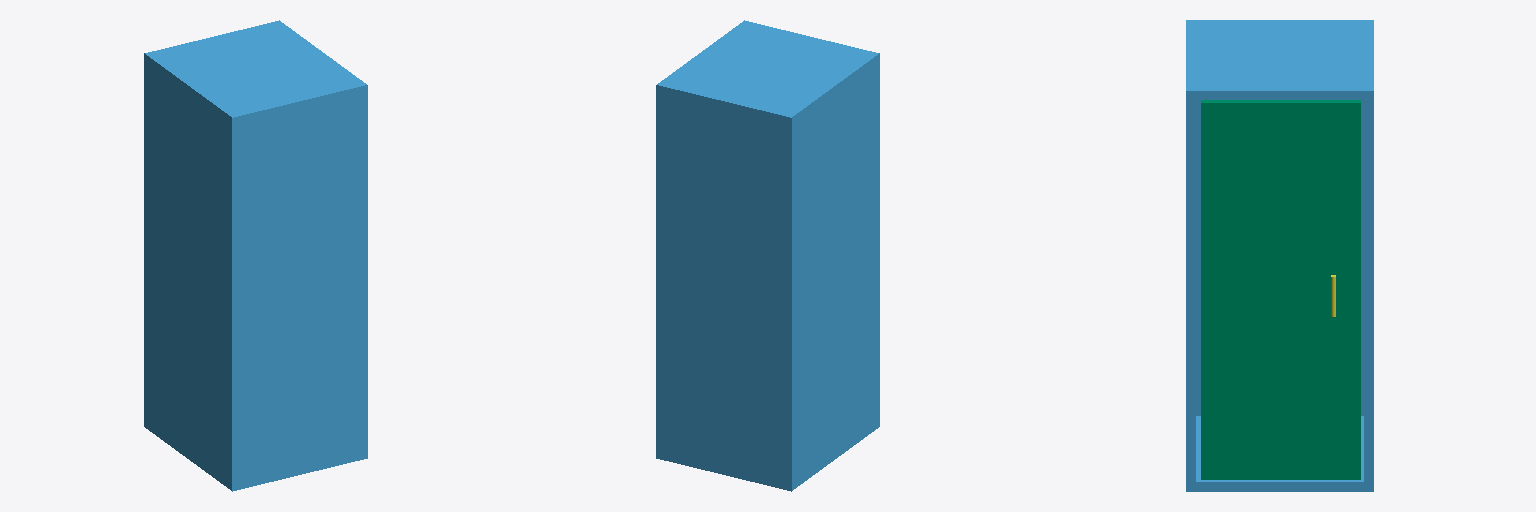
The robot description file, URDF, robot "my_cabinet":
<?xml version="1.0" ?>
<robot name="my_cabinet">
	<link name="world"/>
	<joint name="virtual_joint" type="fixed">
		<parent link="world"/>
		<child link="base_cabinet_link"/>
		<origin xyz="0.0 0.0 0.0" rpy="0.0 0.0 0.0"/>
	</joint>
	<link name="base_cabinet_link">
		<visual>
			<origin xyz="0.0 -0.0025 -0.38753297592456826" rpy="0.0 0.0 0.0"/>
			<geometry>
				<box size="0.3 0.3383322710743411 0.018"/>
			</geometry>
		</visual>
		<collision name="base_cabinet_link_collision_0">
			<origin xyz="0.0 -0.0025 -0.38753297592456826" rpy="0.0 0.0 0.0"/>
			<geometry>
				<box size="0.3 0.3383322710743411 0.018"/>
			</geometry>
		</collision>
		<visual>
			<origin xyz="0.0 0.15766613553717057 0.0" rpy="0.0 0.0 0.0"/>
			<geometry>
				<box size="0.3 0.018 0.7930659518491365"/>
			</geometry>
		</visual>
		<collision name="base_cabinet_link_collision_1">
			<origin xyz="0.0 0.15766613553717057 0.0" rpy="0.0 0.0 0.0"/>
			<geometry>
				<box size="0.3 0.018 0.7930659518491365"/>
			</geometry>
		</collision>
		<visual>
			<origin xyz="0.0 -0.16266613553717058 0.0" rpy="0.0 0.0 0.0"/>
			<geometry>
				<box size="0.3 0.018 0.7930659518491365"/>
			</geometry>
		</visual>
		<collision name="base_cabinet_link_collision_2">
			<origin xyz="0.0 -0.16266613553717058 0.0" rpy="0.0 0.0 0.0"/>
			<geometry>
				<box size="0.3 0.018 0.7930659518491365"/>
			</geometry>
		</collision>
		<visual>
			<origin xyz="0.0 -0.0025 0.38753297592456826" rpy="0.0 0.0 0.0"/>
			<geometry>
				<box size="0.3 0.3383322710743411 0.018"/>
			</geometry>
		</visual>
		<collision name="base_cabinet_link_collision_3">
			<origin xyz="0.0 -0.0025 0.38753297592456826" rpy="0.0 0.0 0.0"/>
			<geometry>
				<box size="0.3 0.3383322710743411 0.018"/>
			</geometry>
		</collision>
		<visual>
			<origin xyz="-0.141 -0.0025 0.0" rpy="0.0 0.0 0.0"/>
			<geometry>
				<box size="0.018 0.3383322710743411 0.7930659518491365"/>
			</geometry>
		</visual>
		<collision name="base_cabinet_link_collision_4">
			<origin xyz="-0.141 -0.0025 0.0" rpy="0.0 0.0 0.0"/>
			<geometry>
				<box size="0.018 0.3383322710743411 0.7930659518491365"/>
			</geometry>
		</collision>
		<inertial>
			<mass value="0.200000"/>
			<inertia ixx="0.012390" ixy="0.0" ixz="0.0" iyy="0.011983" iyz="0.0" izz="0.003408"/>
		</inertial>
	</link>
	<link name="door_link">
		<visual>
			<origin xyz="0.0 -0.14366613553717056 0.0"/>
			<geometry>
				<box size="0.018 0.2873322710743411 0.7470659518491365"/>
			</geometry>
		</visual>
		<collision name="door_link_collision">
			<origin xyz="0.0 -0.14366613553717056 0.0"/>
			<geometry>
				<box size="0.018 0.2873322710743411 0.7470659518491365"/>
			</geometry>
		</collision>
		<inertial>
			<mass value="0.200000"/>
			<inertia ixx="0.010678" ixy="0.0" ixz="0.0" iyy="0.009307" iyz="0.0" izz="0.001381"/>
		</inertial>
	</link>
	<joint name="door_joint" type="revolute">
		<origin xyz="0.141 -0.14366613553717056 0.0" rpy="0.000000 -0.000000 3.141593"/>
		<axis xyz="0 0 1"/>
		<parent link="base_cabinet_link"/>
		<child link="door_link"/>
		<limit effort="50" lower="-1.658062789394613" upper="0" velocity="10"/>
		<dynamics friction="3.5" damping="3.5"/>
	</joint>
	<link name="handle_link">
		<visual>
			<origin xyz="0.0 0.0 0.0" rpy="0.0 0.0 0.0"/>
			<geometry>
				<cylinder length="0.08" radius="0.005"/>
			</geometry>
		</visual>
		<collision name="handle_link_collision_0">
			<origin xyz="0.0 0.0 0.0" rpy="0.0 0.0 0.0"/>
			<geometry>
				<cylinder length="0.08" radius="0.005"/>
			</geometry>
		</collision>
		<visual>
			<origin xyz="-0.01 0.0 0.02" rpy="0.0 1.5707963267948966 0.0"/>
			<geometry>
				<cylinder length="0.02" radius="0.003"/>
			</geometry>
		</visual>
		<collision name="handle_link_collision_1">
			<origin xyz="-0.01 0.0 0.02" rpy="0.0 1.5707963267948966 0.0"/>
			<geometry>
				<cylinder length="0.01" radius="0.003"/>
			</geometry>
		</collision>
		<visual>
			<origin xyz="-0.01 0.0 -0.02" rpy="0.0 1.5707963267948966 0.0"/>
			<geometry>
				<cylinder length="0.02" radius="0.003"/>
			</geometry>
		</visual>
		<collision name="handle_link_collision_2">
			<origin xyz="-0.01 0.0 -0.02" rpy="0.0 1.5707963267948966 0.0"/>
			<geometry>
				<cylinder length="0.02" radius="0.003"/>
			</geometry>
		</collision>
		<inertial>
			<mass value="0.050000"/>
			<inertia ixx="0.000027" ixy="0.0" ixz="0.0" iyy="0.000029" iyz="0.0" izz="0.000003"/>
		</inertial>
	</link>
	<joint name="handle_joint" type="fixed">
		<origin xyz="-0.028999999999999998 -0.23733227107434113 0.0" rpy="0.000000 -0.000000 3.141593"/>
		<parent link="door_link"/>
		<child link="handle_link"/>
	</joint>
	<gazebo reference="base_cabinet_link">
		<sensor name="main_sensor" type="contact">
			<selfCollide>true</selfCollide>
			<alwaysOn>true</alwaysOn>
			<updateRate>5.0</updateRate>
			<material>Gazebo/Red</material>
			<contact>
				<collision>base_cabinet_link_collision_0_collision</collision>
				<collision>base_cabinet_link_collision_1_collision</collision>
				<collision>base_cabinet_link_collision_2_collision</collision>
				<collision>base_cabinet_link_collision_3_collision</collision>
				<collision>base_cabinet_link_collision_4_collision</collision>
			</contact>
			<plugin name="gazebo_ros_bumper_controller" filename="libgazebo_ros_bumper.so">
				<bumperTopicName>/contact</bumperTopicName>
				<frameName>world</frameName>
			</plugin>
		</sensor>
	</gazebo>
	<gazebo reference="door_link">
		<sensor name="main_sensor" type="contact">
			<selfCollide>true</selfCollide>
			<alwaysOn>true</alwaysOn>
			<updateRate>5.0</updateRate>
			<material>Gazebo/Red</material>
			<contact>
				<collision>door_link_collision_collision</collision>
			</contact>
			<plugin name="gazebo_ros_bumper_controller" filename="libgazebo_ros_bumper.so">
				<bumperTopicName>/contact_door</bumperTopicName>
				<frameName>contact_door</frameName>
			</plugin>
		</sensor>
	</gazebo>
	<gazebo reference="door_link">
		<mu>3.0</mu>
		<mu2>3.0</mu2>
		<kp>10000000</kp>
		<kd>100</kd>
	</gazebo>
</robot>

--- Render facts (derived) ---
3 views of the same robot in one strip: view 1: azimuth 30°, elevation 25°; view 2: azimuth 150°, elevation 25°; view 3: azimuth 270°, elevation 25° (orthographic).
Model my_cabinet with 4 links and 3 joints (1 revolute, 2 fixed), rooted at world, posed all joints at 0.
Visible links, largest first — view 1: base_cabinet_link; view 2: base_cabinet_link; view 3: door_link, base_cabinet_link.
Link boxes in pixels (x1,y1,x2,y2): base_cabinet_link: (144,20,367,491); base_cabinet_link: (656,20,879,491); door_link: (1201,100,1360,479); base_cabinet_link: (1186,20,1373,491).
Bounding box of the posed robot: 0.325 × 0.3383 × 0.7931 m (x, y, z).
Geometry: primitives only (box / cylinder / sphere), no mesh files.
